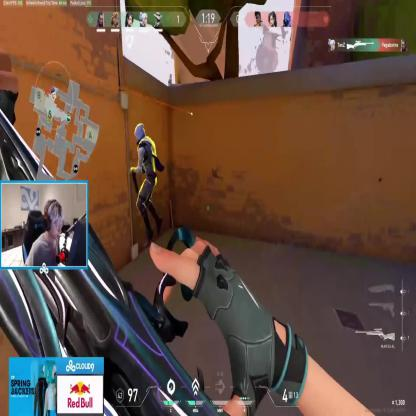enemy: (130, 123, 163, 241)
enemy_head: (134, 123, 146, 144)
